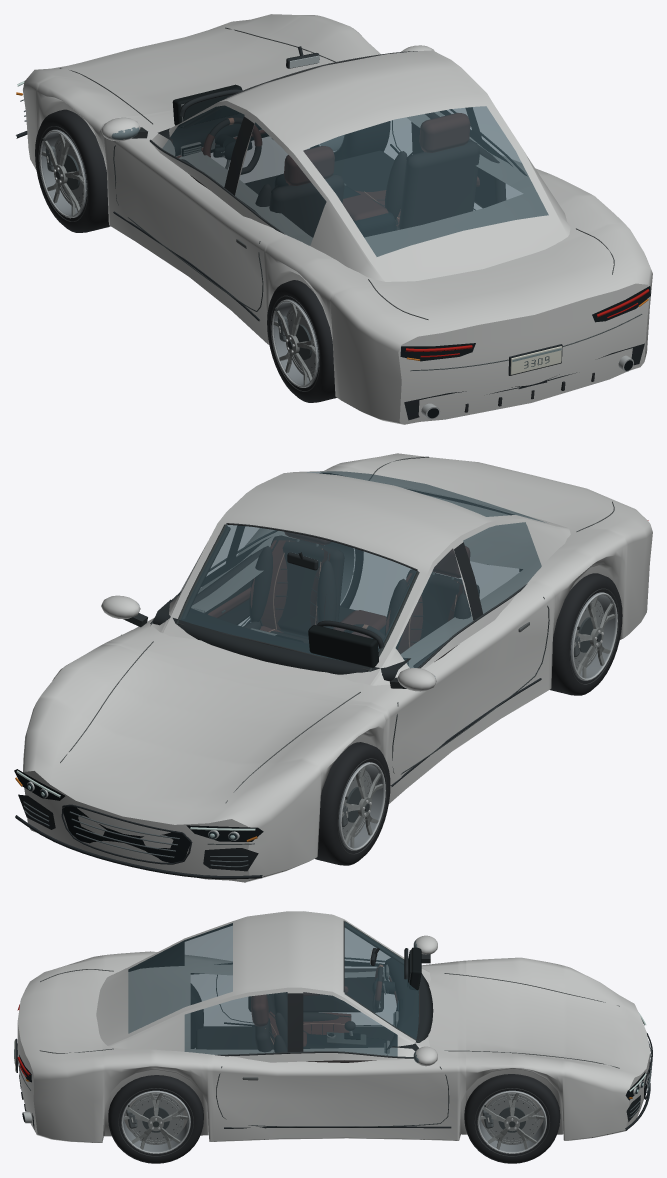
The model's file is sazan-s.glb.
3 renders of one model, top to bottom at view 1: azimuth 30°, elevation 25°; view 2: azimuth 150°, elevation 25°; view 3: azimuth 270°, elevation 25°, orthographic. The views are drawn at different scales.
Visible parts, largest first — view 1: paint, glass, wheelSurface (×3), SeatUpholstery, trim, CabinMouldings, CabinLeather, SteeringLeather, brake; view 2: paint, glass, wheelSurface (×3), trim, SeatUpholstery, CabinMouldings, CabinLeather; view 3: paint, glass, wheelSurface (×3), trim, CabinMouldings, SeatUpholstery, CabinLeather, CockpitHardware.
Part boxes in pixels (x1,y1,x2,y2): paint: (23,14,652,424); glass: (111,105,548,256); wheelSurface (×3): (35,109,390,402); SeatUpholstery: (255,113,479,237); trim: (16,27,650,420); CabinMouldings: (158,46,396,237); CabinLeather: (177,112,505,220); SteeringLeather: (203,118,261,174); brake: (405,289,649,357); paint: (23,453,652,882); glass: (138,471,544,668); wheelSurface (×3): (302,540,622,865); trim: (14,456,614,879); SeatUpholstery: (243,532,479,653); CabinMouldings: (153,552,410,681); CabinLeather: (192,548,457,667); paint: (17,911,650,1142); glass: (128,922,418,1062); wheelSurface (×3): (108,984,560,1163); trim: (14,920,652,1130); CabinMouldings: (196,947,433,1050); SeatUpholstery: (251,992,351,1052); CabinLeather: (248,968,397,1062); CockpitHardware: (327,950,411,1055).
Bounding box in the file's own units: 2.04 × 1.29 × 4.43.
